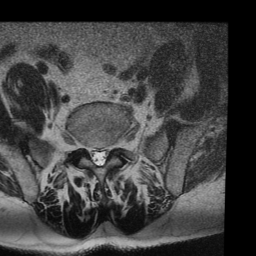CCS_normal: (95, 139, 102, 171)
LFS_normal: (110, 133, 117, 155)
LLS_normal: (102, 140, 110, 166)
RFS_stenosis: (80, 133, 87, 156)
RLS_normal: (87, 137, 94, 165)
